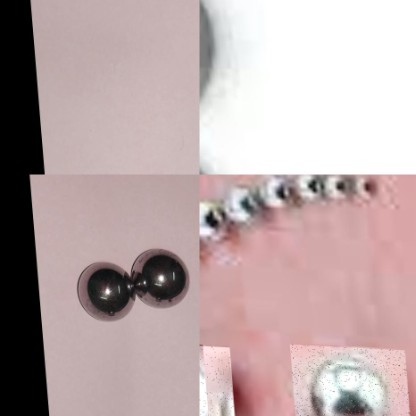ironball: (286, 341, 408, 415), (128, 240, 194, 309), (73, 258, 136, 327), (217, 174, 261, 229), (199, 185, 228, 259), (259, 174, 292, 216), (351, 174, 383, 205), (292, 174, 321, 204), (321, 174, 356, 198)
